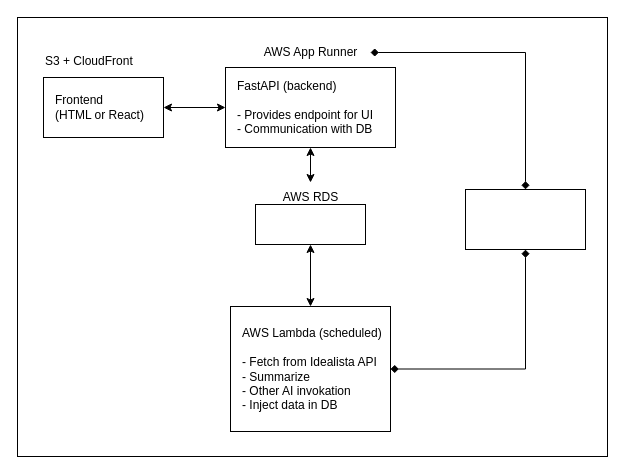
This 625x474 diagram has some shape labels left out. Each missing label, with the centre of its shape:
DataBase: the point at 310,224
Docker + GitHub Actions (CI/CD): the point at 525,219
